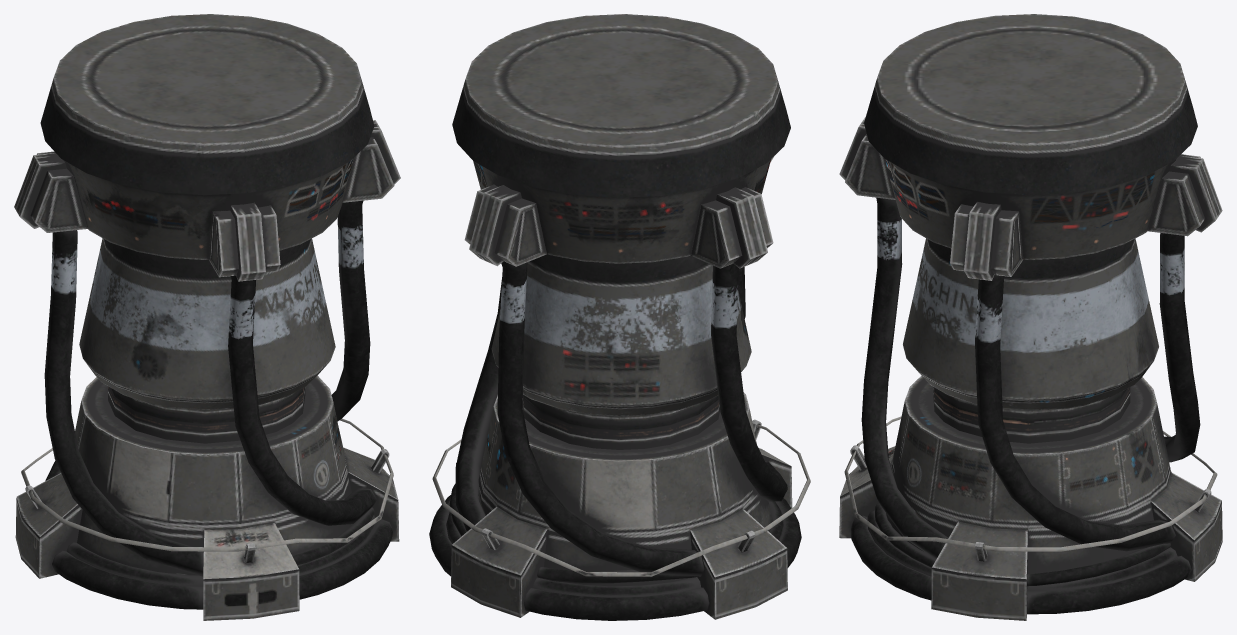
The model's file is SM_megaserver.fbx.
3 views of the same model, side by side, from view 1: azimuth 30°, elevation 25°; view 2: azimuth 150°, elevation 25°; view 3: azimuth 270°, elevation 25° (orthographic).
Parts seen in each view (by area): view 1: megaServer_lp_Mesh; view 2: megaServer_lp_Mesh; view 3: megaServer_lp_Mesh.
Part boxes in pixels (x1,y1,x2,y2): megaServer_lp_Mesh: (14, 14, 400, 620); megaServer_lp_Mesh: (429, 14, 810, 620); megaServer_lp_Mesh: (839, 14, 1222, 620).
Size of the model in its own units: 9.57 by 12.7 by 9.57.
